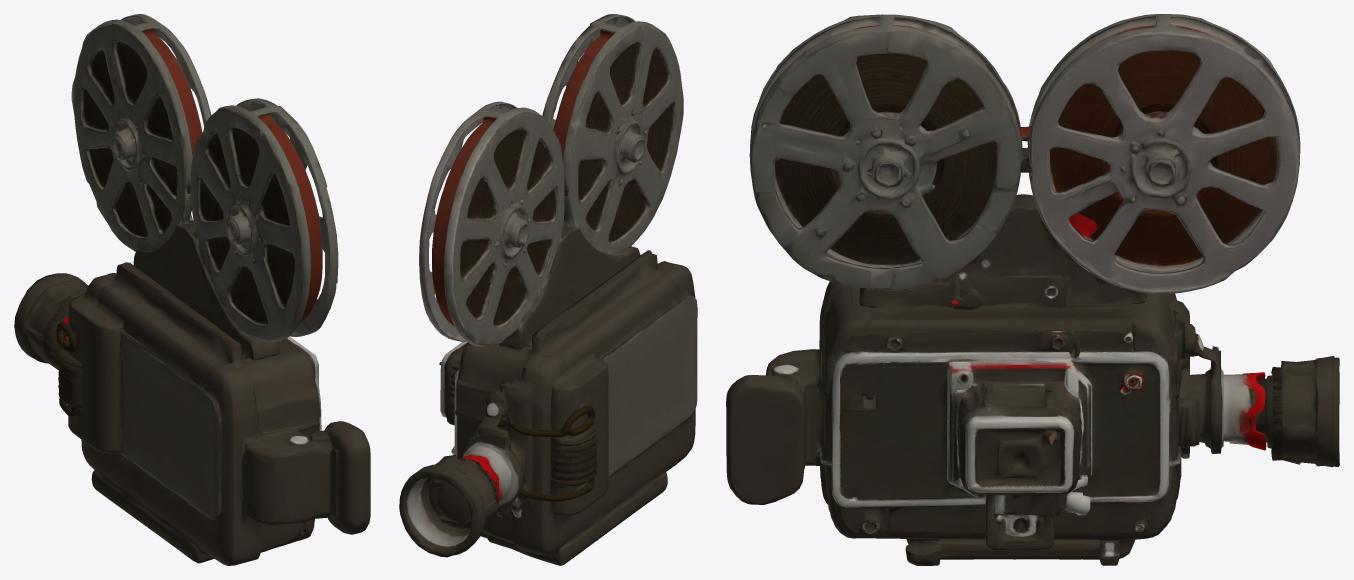
File: camera.glb
The picture shows the model from 3 angles, left to right: view 1: azimuth 30°, elevation 25°; view 2: azimuth 150°, elevation 25°; view 3: azimuth 270°, elevation 25°; orthographic projection. The views are drawn at different scales.
Visible parts, largest first — view 1: tripo_node_7be4dadd-775a-4615-a460-b10561945f03; view 2: tripo_node_7be4dadd-775a-4615-a460-b10561945f03; view 3: tripo_node_7be4dadd-775a-4615-a460-b10561945f03.
Part boxes in pixels (bbox=[...]): tripo_node_7be4dadd-775a-4615-a460-b10561945f03: bbox=[14, 14, 370, 565]; tripo_node_7be4dadd-775a-4615-a460-b10561945f03: bbox=[399, 14, 697, 565]; tripo_node_7be4dadd-775a-4615-a460-b10561945f03: bbox=[726, 14, 1339, 565].
Size of the model in its own units: 0.4273 by 0.9463 by 1.
1 material, 1 textured.
